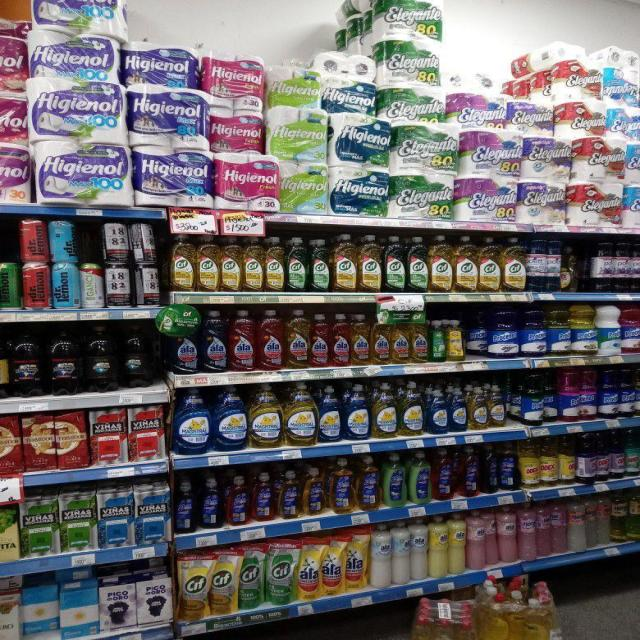ala_conc_amarillo: (285, 310, 309, 369), (350, 313, 370, 366), (370, 314, 390, 365), (390, 316, 410, 364), (411, 318, 428, 363)
ala_conc_azul: (200, 310, 228, 374), (169, 334, 199, 374)
ala_conc_rojo: (228, 309, 256, 372), (257, 309, 284, 371), (310, 313, 330, 368), (331, 312, 350, 368)
ala_crem_amarillo: (428, 514, 447, 578), (449, 512, 466, 575)
ala_crem_blanco: (370, 522, 391, 588), (392, 520, 410, 585), (411, 517, 428, 581)
ala_crem_rosado: (467, 510, 486, 571), (498, 505, 517, 564), (518, 501, 536, 561)
ala_sachet_amarillo: (296, 538, 321, 600), (346, 528, 368, 592), (322, 534, 344, 596)
cif_conc_bot_amarilla: (168, 233, 195, 293), (331, 233, 357, 293), (358, 234, 382, 293), (428, 234, 452, 293), (453, 235, 477, 293), (196, 234, 219, 292), (478, 236, 501, 293), (502, 236, 525, 292), (220, 235, 242, 292), (265, 236, 285, 293), (243, 236, 263, 292)
cif_conc_botella_verde: (384, 235, 406, 293), (406, 235, 428, 293), (286, 237, 308, 292), (309, 237, 330, 293)
cif_conc_sachet_amarillo: (177, 551, 209, 621), (210, 549, 238, 615)
cif_conc_sachet_verde: (266, 540, 295, 605), (239, 544, 264, 609)
heroe: (568, 496, 586, 552), (551, 499, 567, 554)
magistral_con_amarillo: (284, 382, 317, 446), (250, 382, 282, 448), (398, 381, 424, 437), (372, 382, 397, 438), (468, 385, 487, 430), (488, 384, 505, 428)
magistral_con_azul: (173, 387, 211, 455), (213, 384, 247, 452), (344, 382, 370, 441), (318, 384, 342, 443), (426, 388, 448, 434), (449, 387, 467, 432)
zorro: (327, 456, 354, 514), (356, 455, 380, 511), (382, 452, 406, 508), (199, 477, 224, 529), (408, 450, 431, 504), (226, 475, 250, 526), (251, 472, 275, 522), (276, 470, 300, 520), (432, 448, 454, 500), (302, 467, 325, 516), (458, 446, 480, 497)
